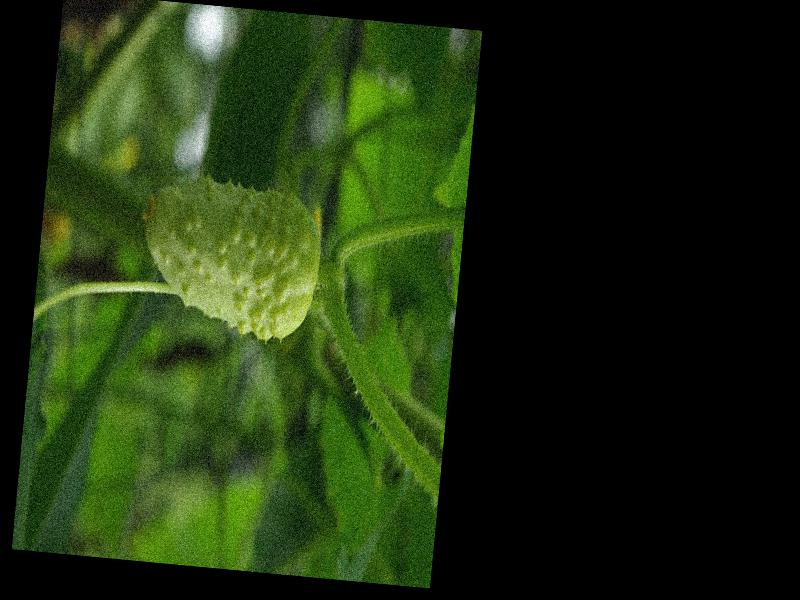Cucumber: (129, 174, 326, 346)
